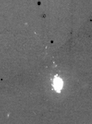Halpha: (18, 17, 68, 77)
